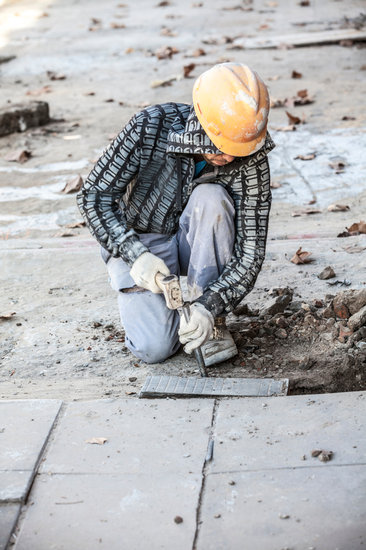hard hat: (193, 60, 271, 157)
